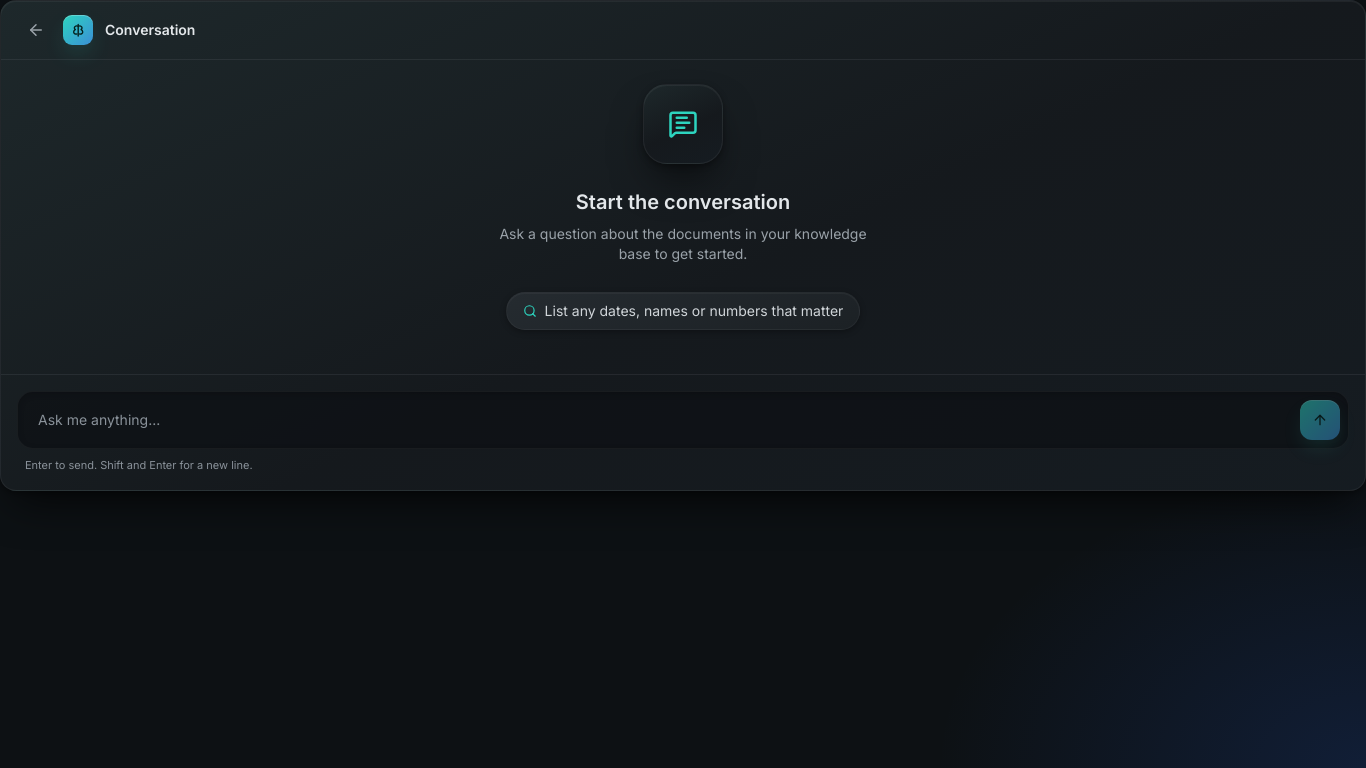
Test: chat progress, sources and shortcuts › C04 a suggestion chip fills the message box
The width and height of the screenshot is (1366, 768).
Click the button "List any dates, names or numbers that matter". click: (683, 311)
box: [506,292,860,330]
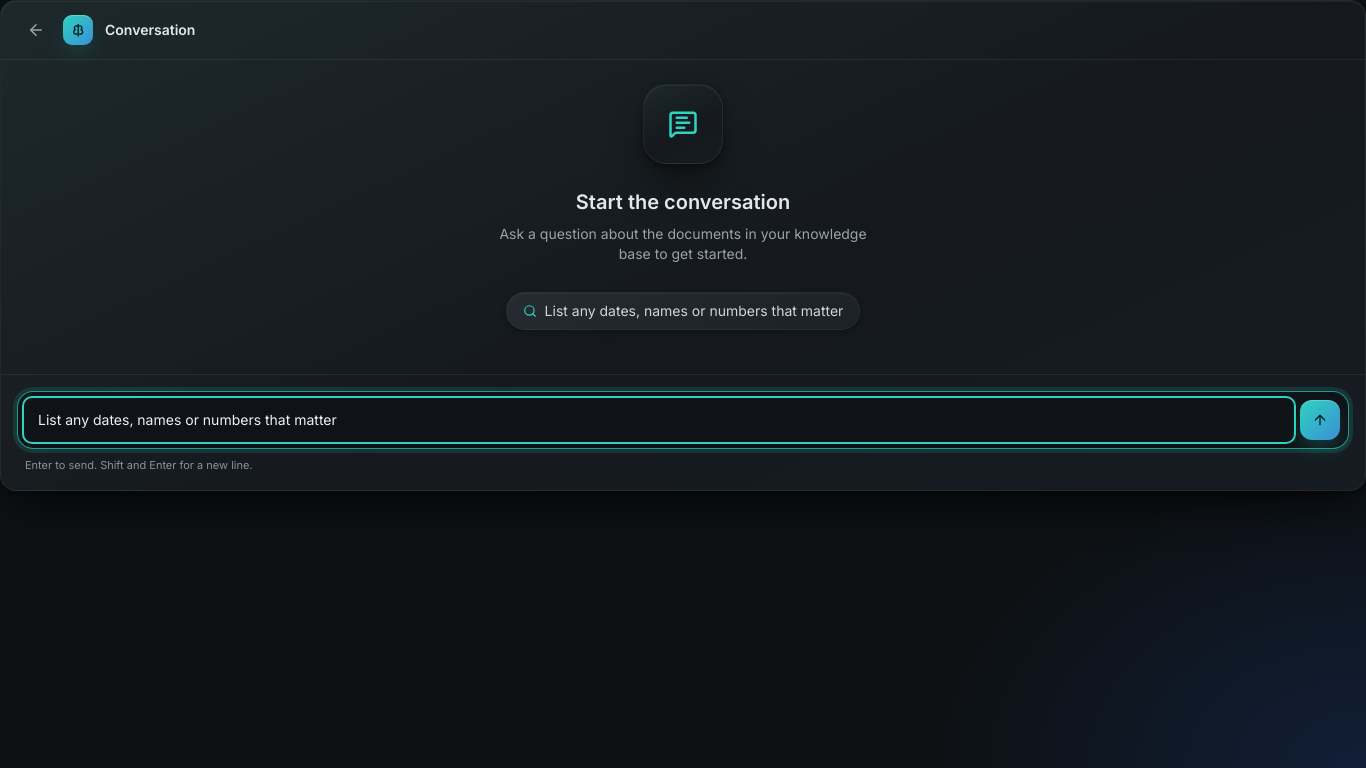
Check: the text box named "Message" holds "List any dates, names or numbers that matter", box [26,400,1292,440]
